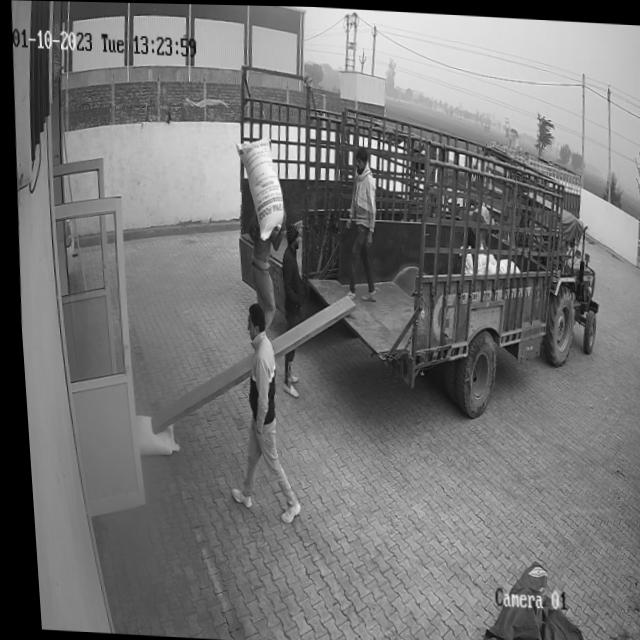sack: (229, 137, 285, 241), (127, 413, 174, 457)
